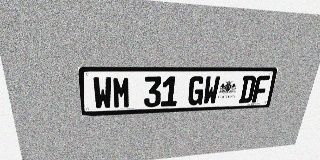1: (161, 76, 179, 107)
3: (144, 76, 162, 107)
D: (238, 76, 257, 103)
F: (252, 75, 270, 103)
G: (187, 76, 205, 105)
M: (112, 76, 130, 109)
W: (92, 77, 113, 109), (202, 76, 220, 105)
